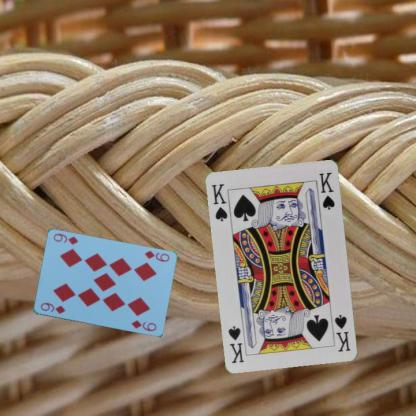9d: (37, 300, 66, 315), (142, 248, 170, 263)
Ks: (332, 312, 352, 354), (209, 181, 229, 223)
